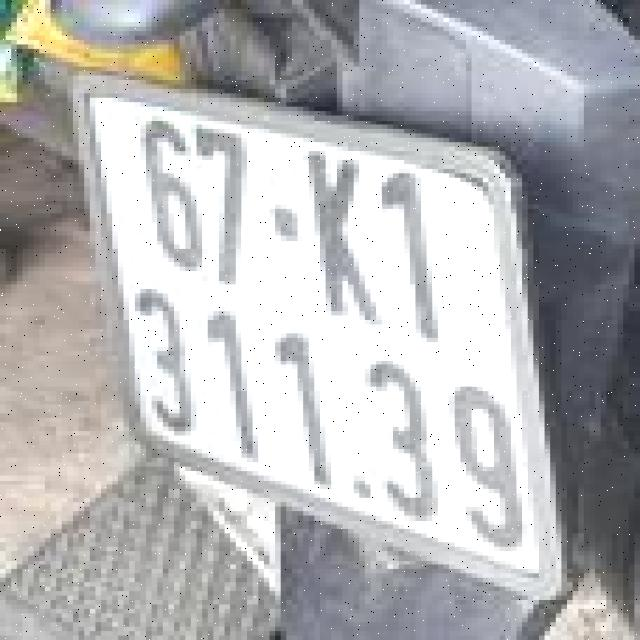1: (379, 162, 457, 340), (275, 331, 343, 491), (202, 311, 270, 462)
3: (365, 356, 443, 524), (124, 284, 196, 440)
6: (140, 116, 202, 276)
7: (194, 120, 261, 280)
9: (443, 380, 539, 562)
K: (289, 142, 385, 329)
